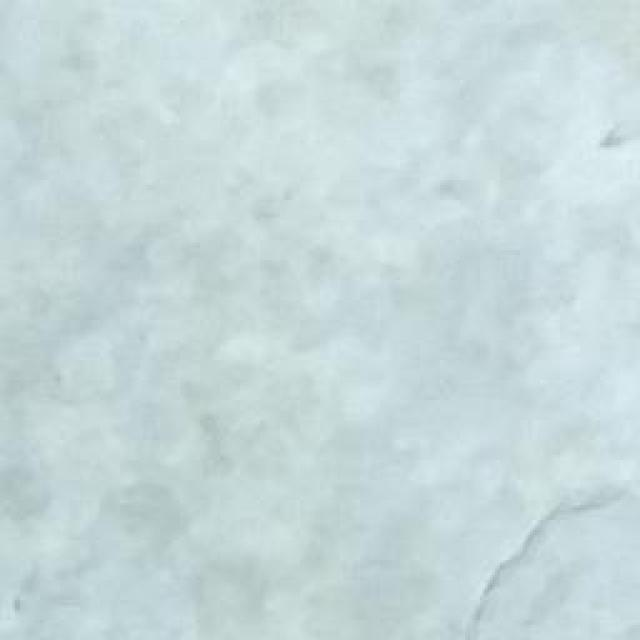Diagonal: (426, 457, 640, 640)
